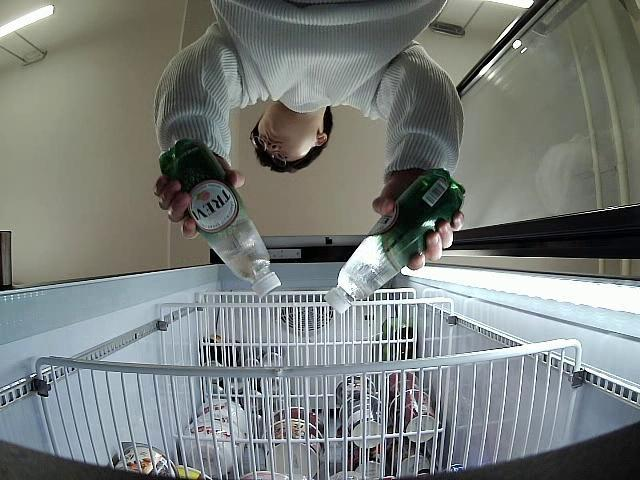18_trevi: (324, 168, 464, 314), (160, 138, 282, 296)
